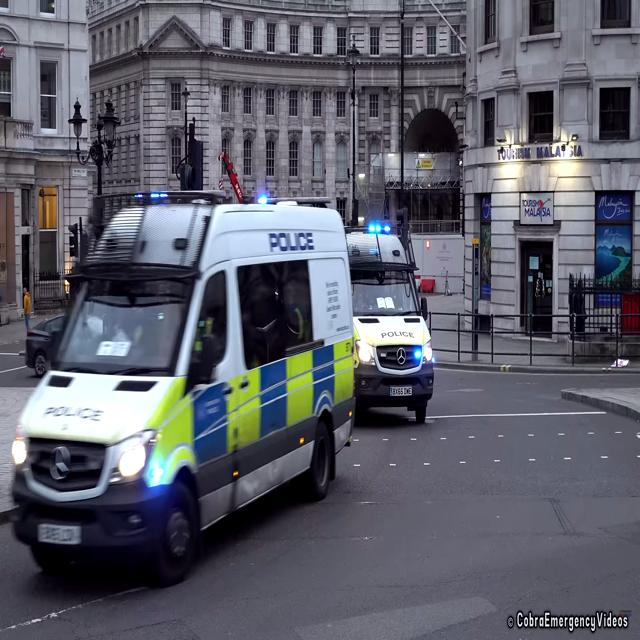emergency-vehicles: (8, 180, 364, 598), (330, 215, 446, 429)
